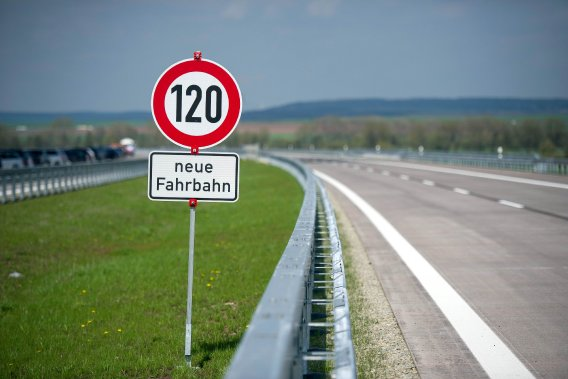Speed_limit_120km: (148, 53, 243, 148)
